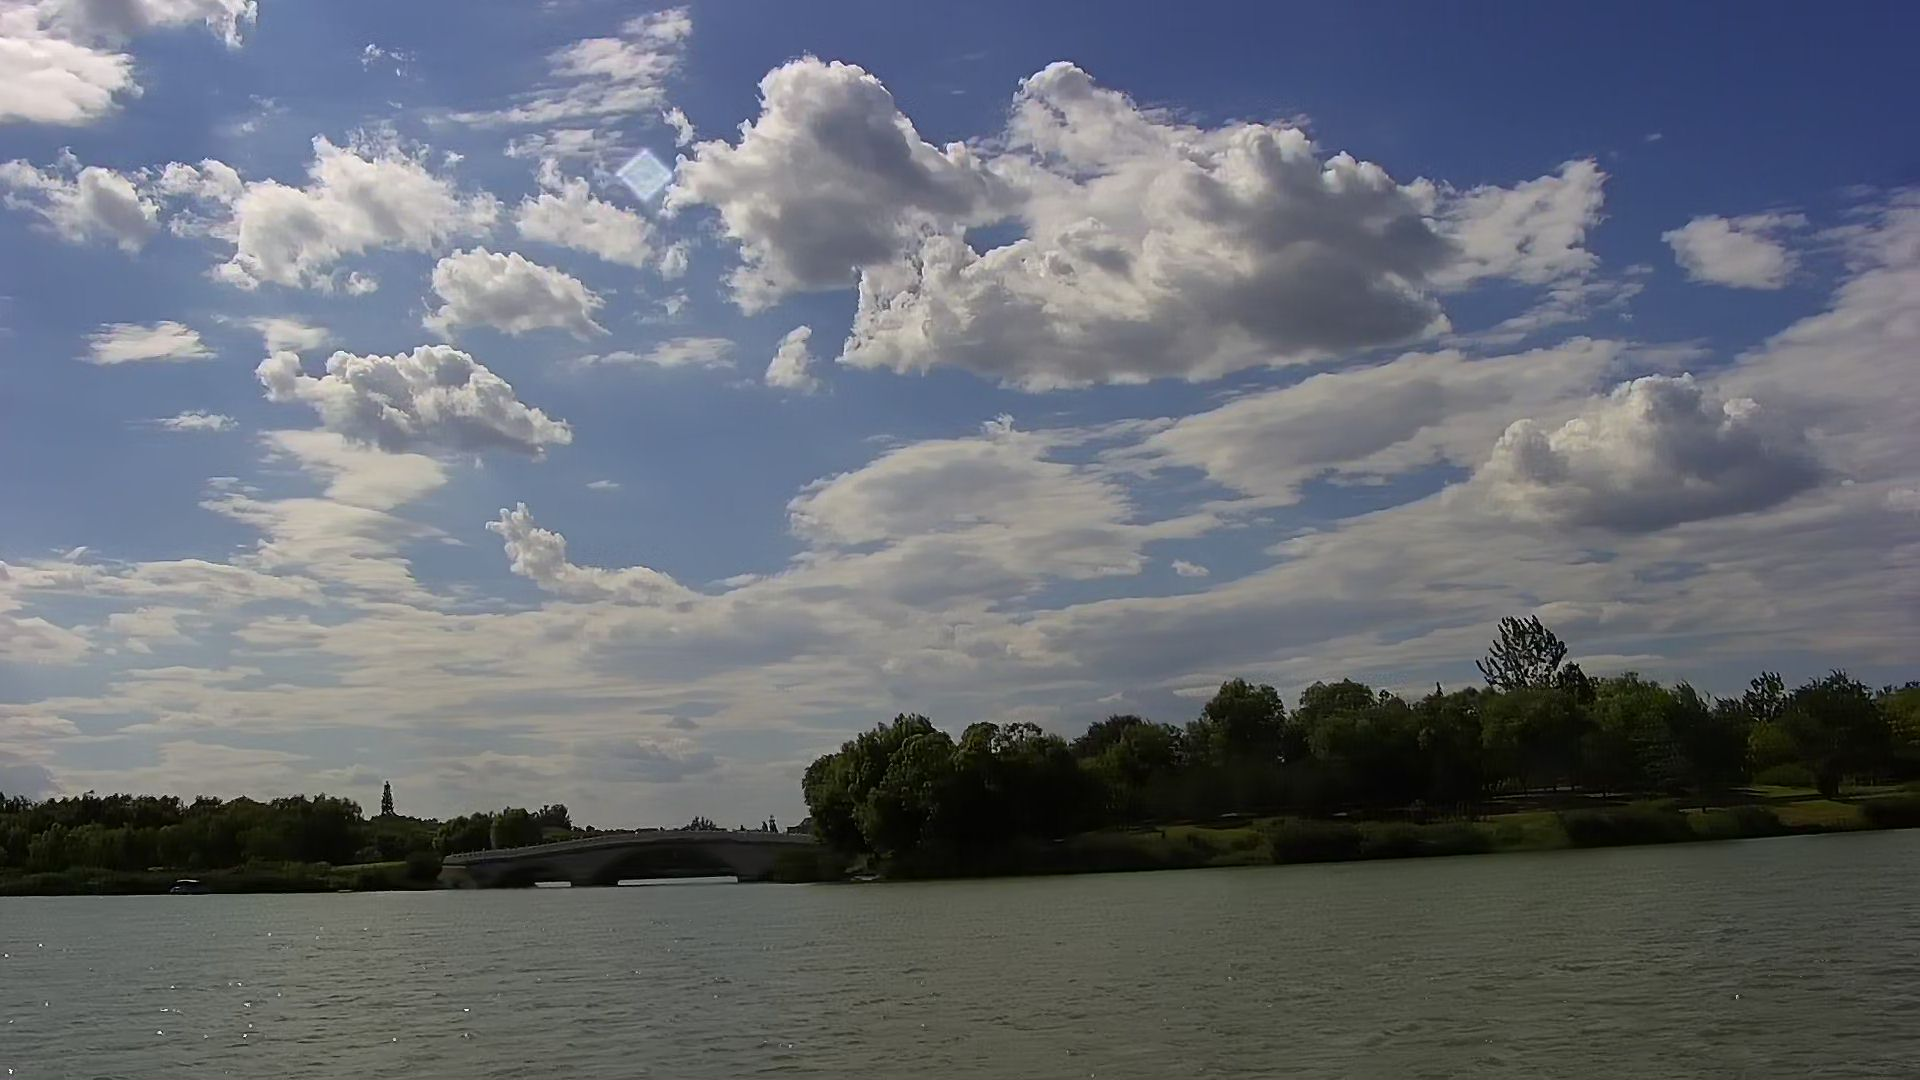bridge: (455, 825, 796, 887)
